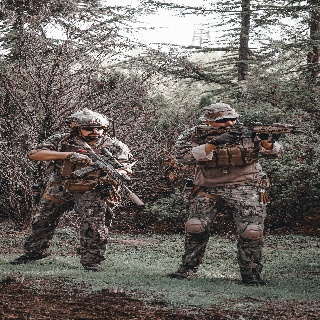rifle: (58, 133, 146, 209), (194, 121, 304, 152)
